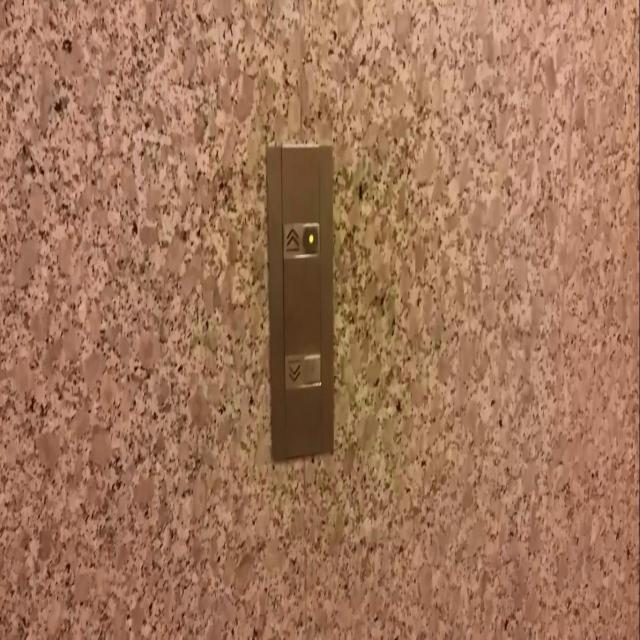down: (282, 349, 324, 393)
up: (281, 218, 322, 259)
